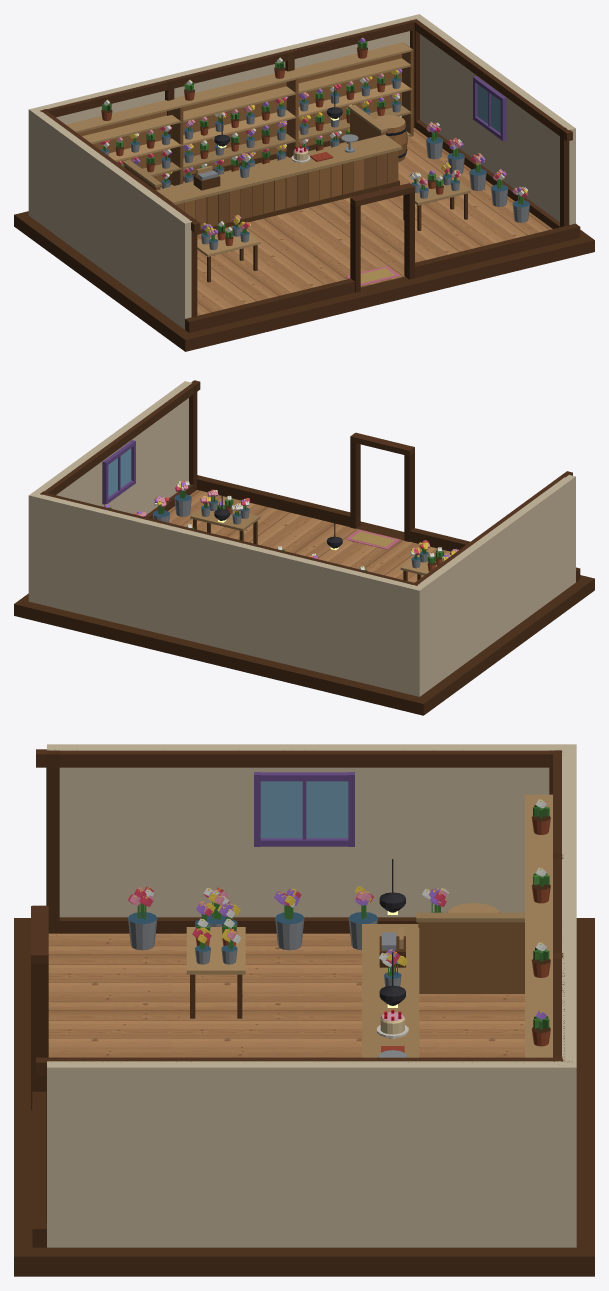
The model's file is tienda_interior_flores.glb.
The picture shows the model from 3 angles, top to bottom: view 1: azimuth 30°, elevation 25°; view 2: azimuth 150°, elevation 25°; view 3: azimuth 270°, elevation 25°; orthographic projection. The views are drawn at different scales.
Visible parts, largest first — view 1: SM_TiendaInterior_flores; view 2: SM_TiendaInterior_flores; view 3: SM_TiendaInterior_flores.
Part boxes in pixels (<box>): SM_TiendaInterior_flores: <box>14,14,594,351</box>; SM_TiendaInterior_flores: <box>14,380,594,715</box>; SM_TiendaInterior_flores: <box>14,744,594,1276</box>.
Size of the model in its own units: 10.9 by 3.02 by 7.9.
4 materials, 1 textured.
